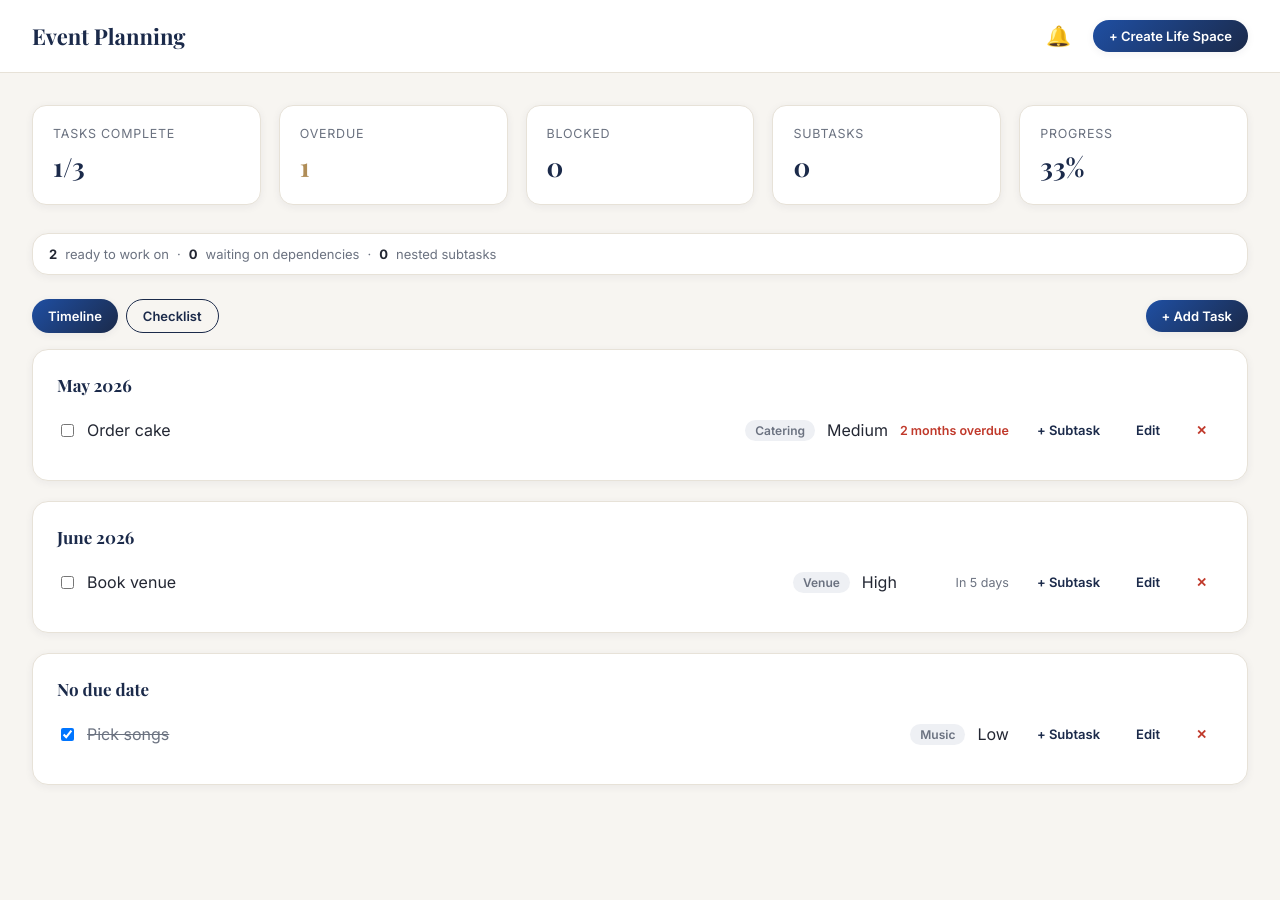
Planning — optimistic toggle rollback › shows an error message after a failed toggle
Click the checkbox labelled "Book venue": {"x": 68, "y": 582} [61,576,74,588]
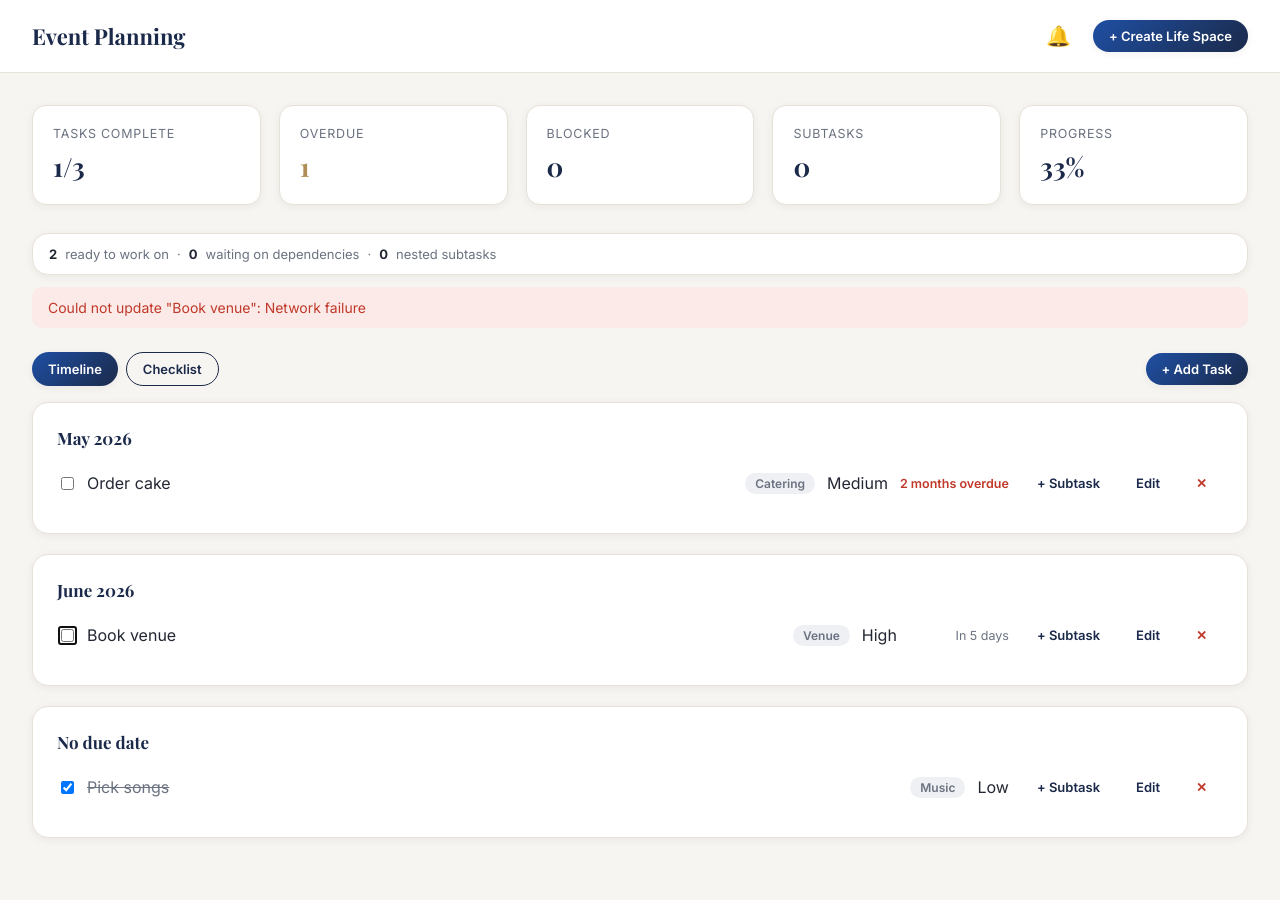
Now the text "Could not update \"Book venue\": Network failure" is shown, box [32,287,1248,328]
